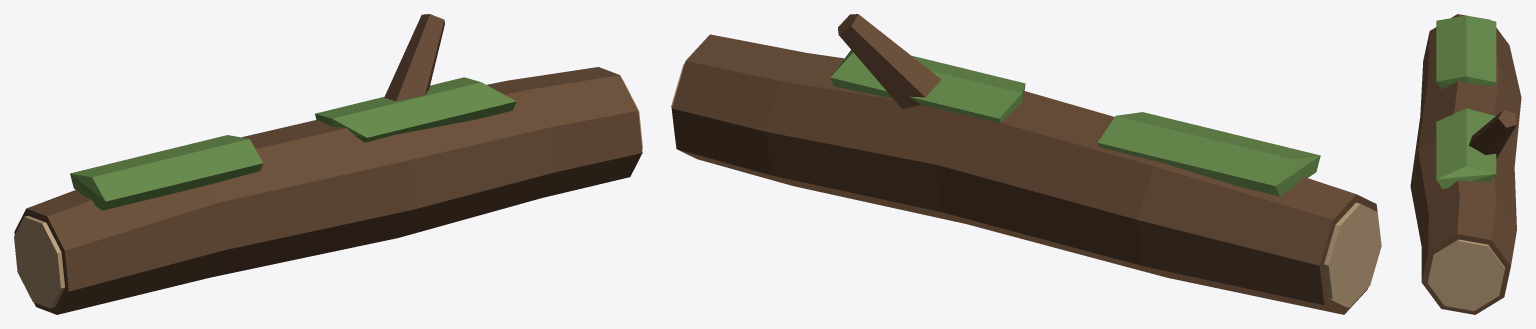
Rendered from Log.fbx.
3 renders of one model, left to right at view 1: azimuth 30°, elevation 25°; view 2: azimuth 150°, elevation 25°; view 3: azimuth 270°, elevation 25°, orthographic. The views are drawn at different scales.
Parts seen in each view (by area): view 1: Bark, Moss, Ends; view 2: Bark, Moss, Ends; view 3: Bark, Moss, Ends.
Part boxes in pixels (x1,y1,x2,y2): Bark: [14, 14, 642, 314]; Moss: [70, 77, 516, 210]; Ends: [14, 80, 642, 308]; Bark: [671, 14, 1377, 314]; Moss: [830, 50, 1320, 196]; Ends: [671, 63, 1381, 307]; Bark: [1410, 14, 1521, 314]; Moss: [1436, 15, 1496, 188]; Ends: [1427, 239, 1504, 310].
Bounding box in the file's own units: 7 × 2.09 × 1.46.
